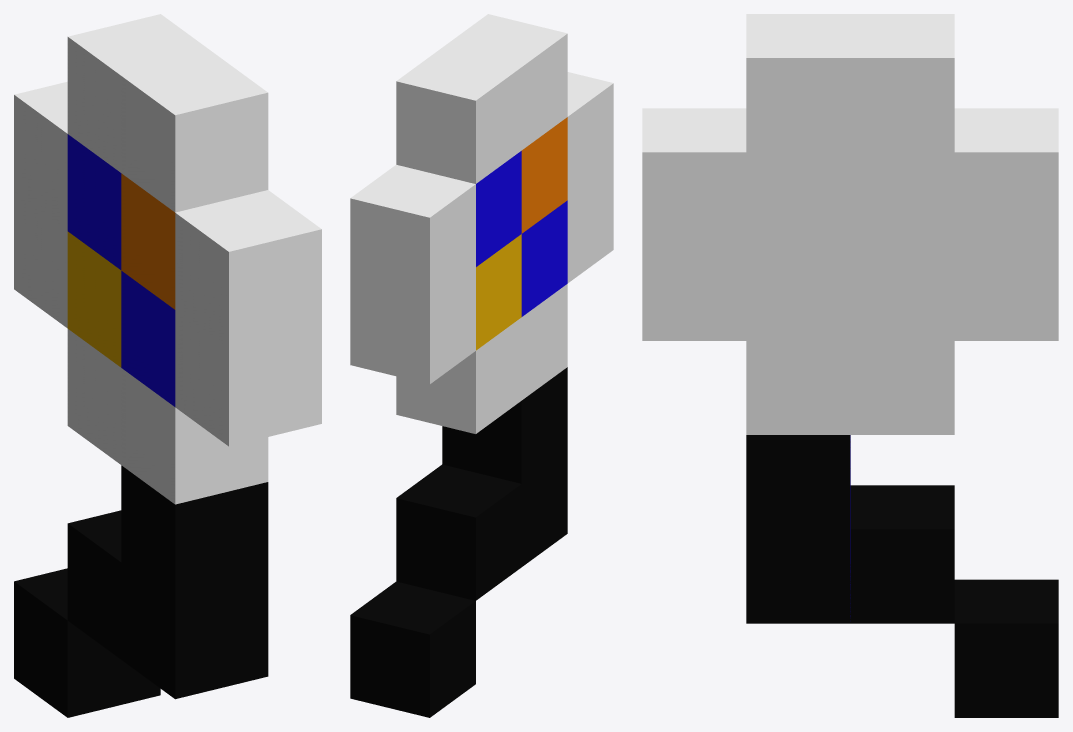
3 views of the same model, side by side, from view 1: azimuth 30°, elevation 25°; view 2: azimuth 150°, elevation 25°; view 3: azimuth 270°, elevation 25° (orthographic). The views are drawn at different scales.
Visible parts, largest first — view 1: white, black, yellow, orange, red, blue; view 2: white, black, orange, blue, yellow, red; view 3: white, black, yellow, orange, red, blue.
Boxes of the visible parts, x1,y1,x2,y2 form: white: [14, 14, 321, 504]; black: [14, 465, 268, 717]; yellow: [67, 231, 121, 367]; orange: [121, 173, 175, 309]; red: [67, 134, 121, 269]; blue: [121, 271, 175, 406]; white: [350, 14, 613, 433]; black: [350, 367, 567, 717]; orange: [521, 117, 567, 233]; blue: [521, 200, 567, 316]; yellow: [476, 234, 521, 350]; red: [476, 151, 521, 266]; white: [642, 14, 1058, 434]; black: [746, 435, 1058, 717]; yellow: [850, 246, 954, 340]; orange: [746, 152, 850, 246]; red: [850, 152, 954, 246]; blue: [746, 246, 850, 340].
Bounding box in the file's own units: 0.0625 × 0.4375 × 0.25.
